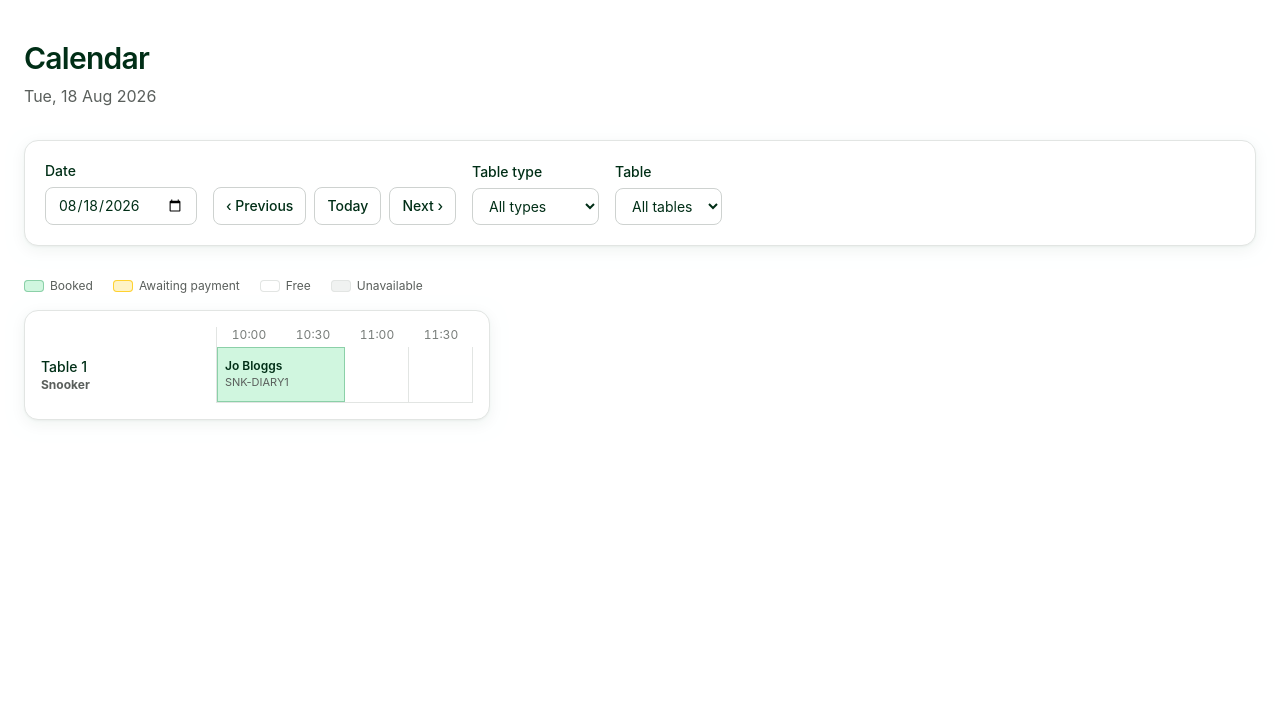
Test case: AdminDiaryPage › the booking dialog › closes on Escape
Click the button "Jo Bloggs SNK-DIARY1" at (281, 375), box [217,347,345,403]
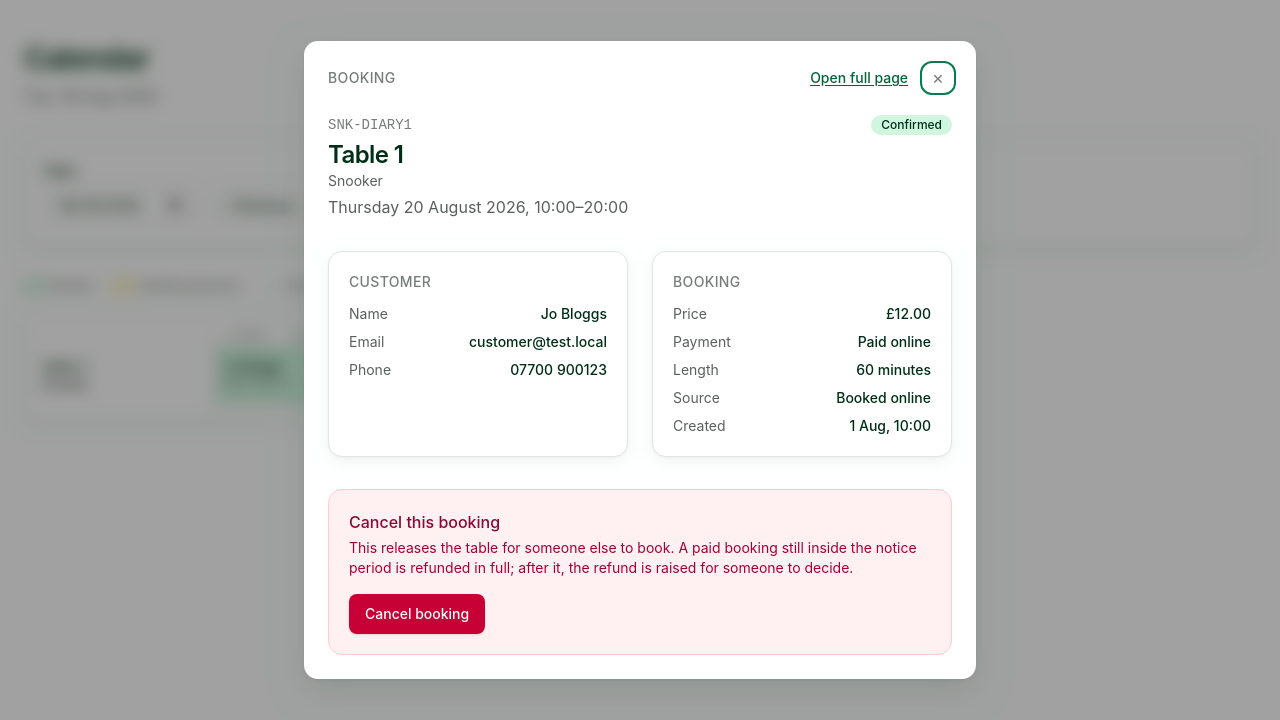
expect the dialog is shown: met, box [304,41,976,679]
Press Escape
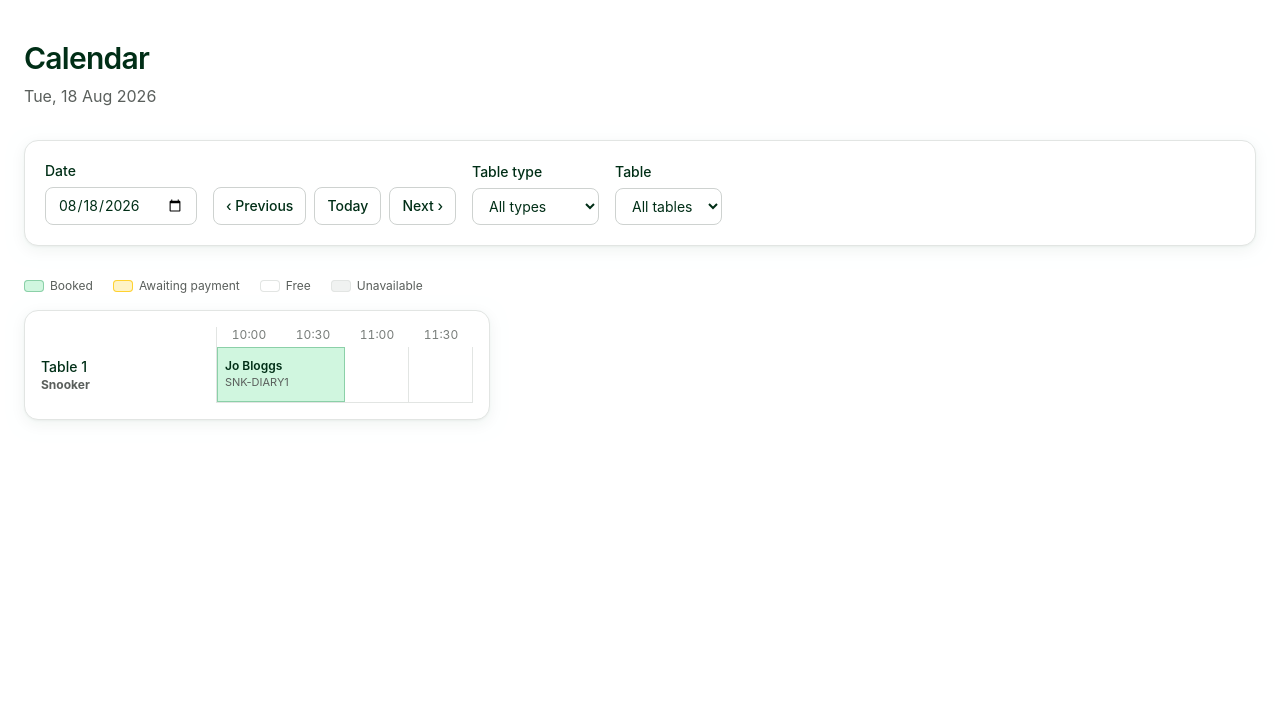
expect the dialog is gone: met
